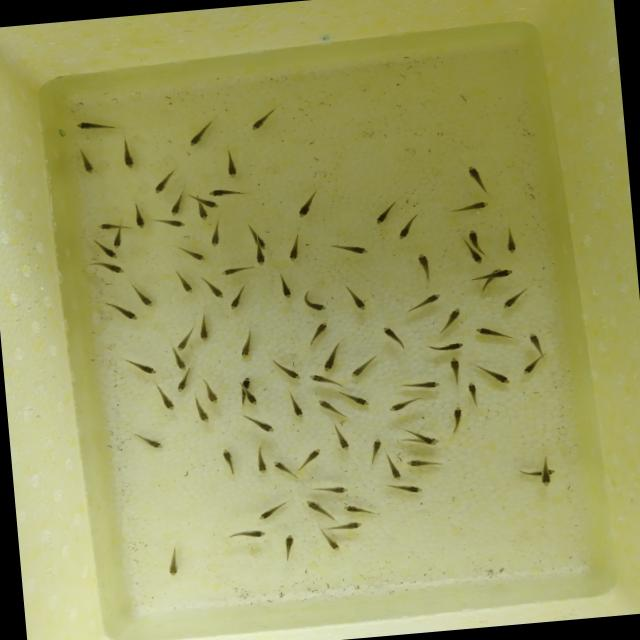fingerling: (460, 160, 494, 198), (100, 296, 140, 327), (476, 359, 516, 389), (266, 354, 306, 384), (275, 528, 306, 566), (85, 257, 132, 282), (184, 116, 218, 150), (246, 104, 282, 136), (72, 114, 122, 137), (119, 352, 160, 380), (236, 409, 278, 436), (70, 142, 100, 179), (498, 284, 536, 313), (253, 496, 292, 524), (322, 239, 374, 260), (394, 212, 427, 245), (369, 197, 402, 230), (315, 340, 346, 375), (344, 350, 380, 380), (341, 282, 372, 316), (432, 304, 467, 334), (402, 451, 447, 474), (300, 317, 332, 349), (402, 291, 446, 314), (130, 425, 166, 453), (292, 186, 320, 222), (471, 321, 516, 343), (224, 280, 253, 314), (156, 546, 184, 581), (270, 268, 297, 304), (116, 135, 142, 172), (168, 266, 198, 298), (282, 230, 310, 264), (384, 478, 431, 498), (232, 326, 258, 362), (150, 165, 180, 196), (378, 451, 406, 484), (222, 526, 272, 544), (380, 322, 410, 352), (171, 243, 210, 266), (296, 445, 328, 473), (301, 287, 333, 315), (152, 380, 178, 414), (130, 278, 156, 312), (308, 480, 352, 500), (216, 444, 240, 480), (339, 500, 380, 521), (444, 199, 494, 216), (384, 394, 426, 414), (282, 390, 308, 422), (206, 182, 249, 201), (338, 386, 372, 410), (218, 147, 242, 181), (198, 274, 227, 302), (323, 518, 368, 536), (399, 376, 443, 394), (198, 374, 222, 406), (412, 250, 436, 282), (193, 308, 213, 346), (424, 337, 467, 354), (304, 498, 334, 522), (312, 396, 343, 419), (205, 219, 228, 250), (249, 444, 271, 476), (500, 228, 522, 260), (465, 268, 515, 282), (245, 220, 268, 250), (171, 326, 197, 352), (331, 424, 353, 454), (306, 372, 342, 390), (130, 198, 149, 232), (522, 328, 545, 356), (446, 401, 466, 433), (462, 380, 483, 410), (445, 354, 466, 384), (172, 370, 194, 398), (149, 216, 187, 232), (319, 532, 342, 556), (270, 455, 294, 478), (520, 355, 544, 378), (190, 402, 212, 427), (218, 264, 256, 278), (164, 196, 188, 217), (364, 436, 384, 461), (538, 456, 552, 488), (171, 352, 189, 373), (252, 250, 270, 268), (110, 230, 126, 250), (466, 229, 482, 248), (100, 248, 122, 261), (96, 220, 118, 232), (244, 392, 260, 408), (195, 208, 211, 224), (468, 252, 484, 266), (203, 198, 221, 210), (241, 376, 253, 388), (424, 436, 436, 446)
